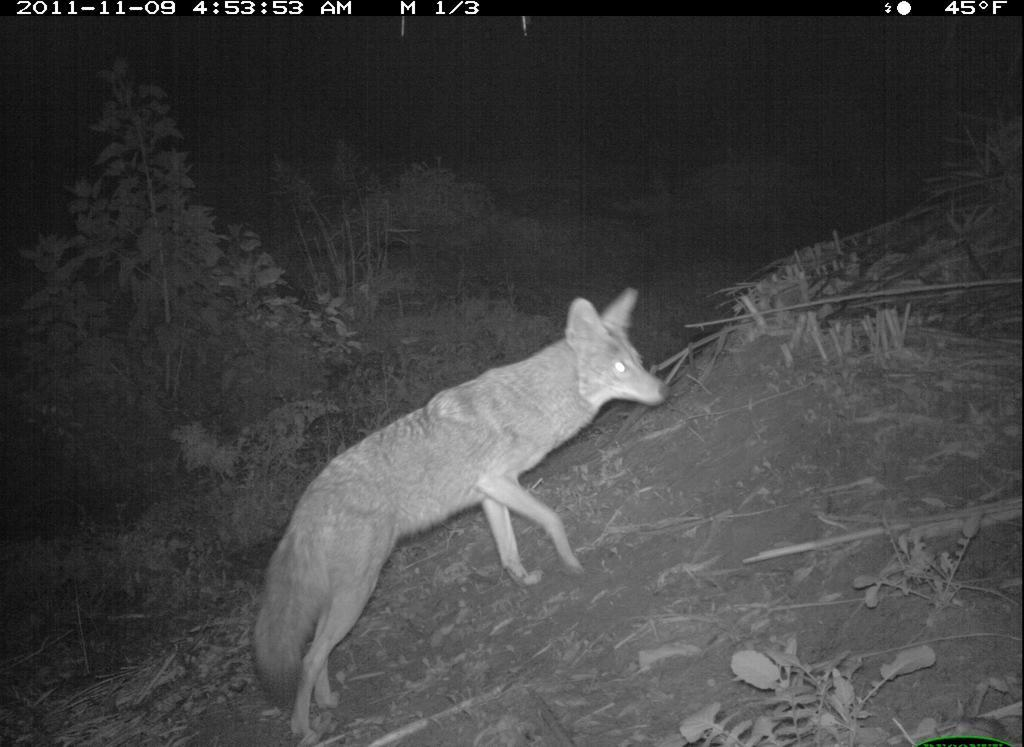coyote: (242, 278, 673, 737)
